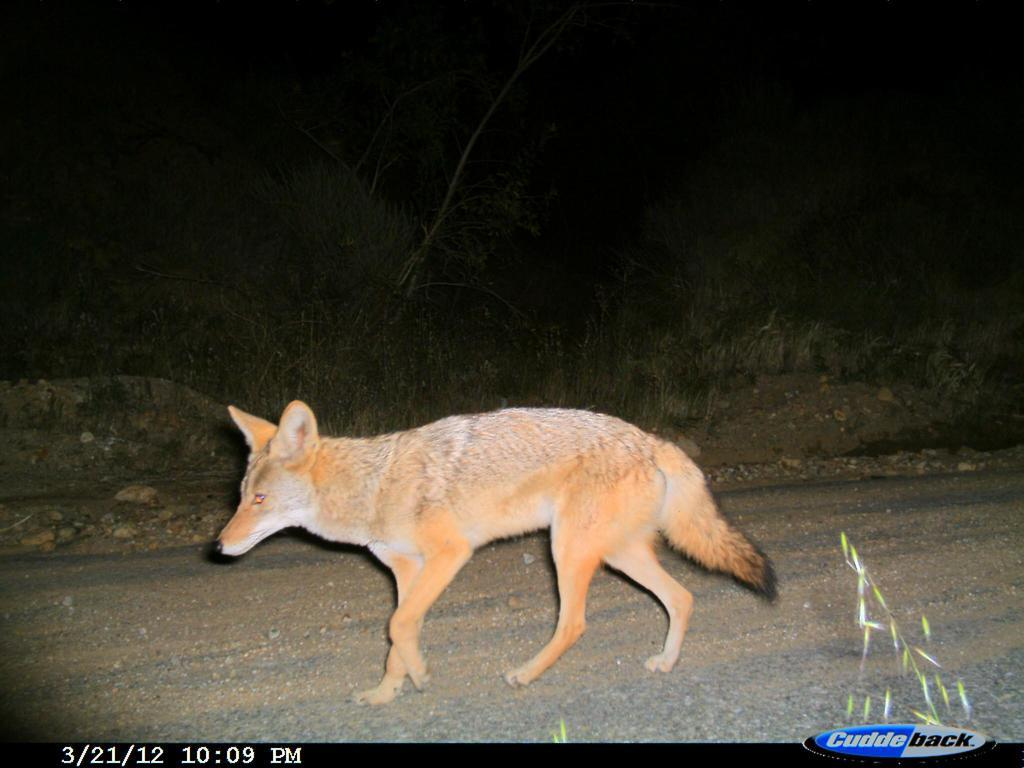coyote: (203, 387, 785, 712)
